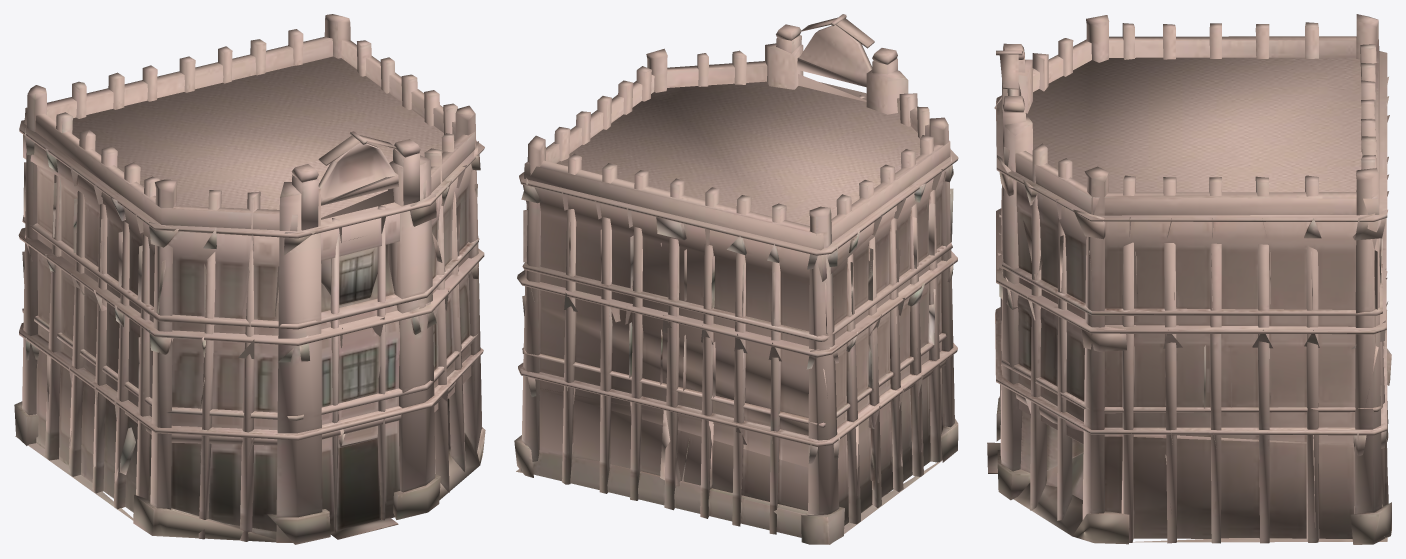
File: townhouse.glb
The picture shows the model from 3 angles, left to right: view 1: azimuth 30°, elevation 25°; view 2: azimuth 150°, elevation 25°; view 3: azimuth 270°, elevation 25°; orthographic projection. The views are drawn at different scales.
Visible parts, largest first — view 1: mesh_node; view 2: mesh_node; view 3: mesh_node.
Part boxes in pixels (x1,y1,x2,y2): mesh_node: (14, 14, 485, 544); mesh_node: (514, 14, 958, 544); mesh_node: (987, 14, 1391, 544).
Bounding box in the file's own units: 0.9102 × 1 × 0.9004.
Materials: 1 (1 with a texture image).
